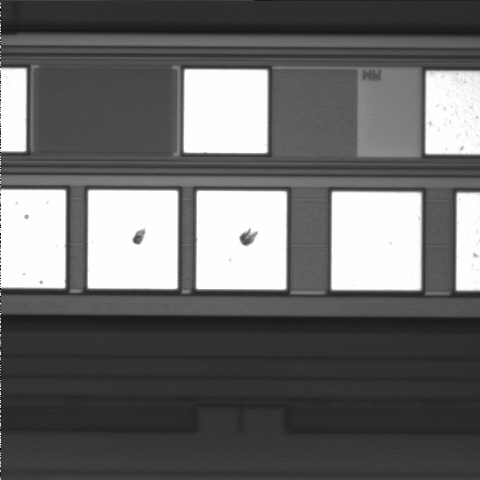pad: (196, 191, 287, 290), (88, 190, 178, 289), (331, 192, 421, 290), (184, 69, 268, 153)
